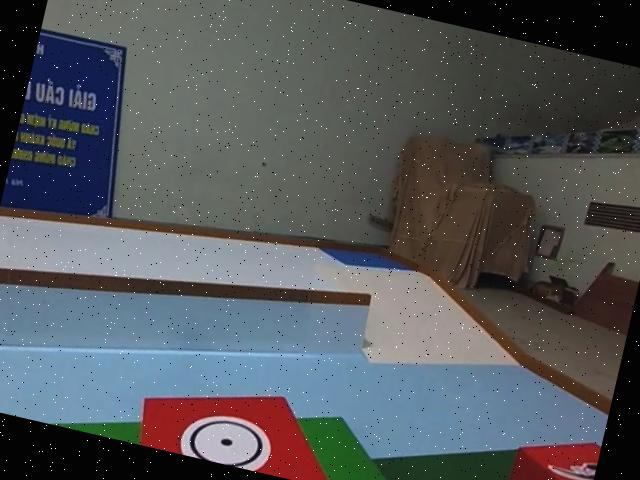R1: (491, 413, 604, 480)
R2 Real: (135, 356, 370, 480)
